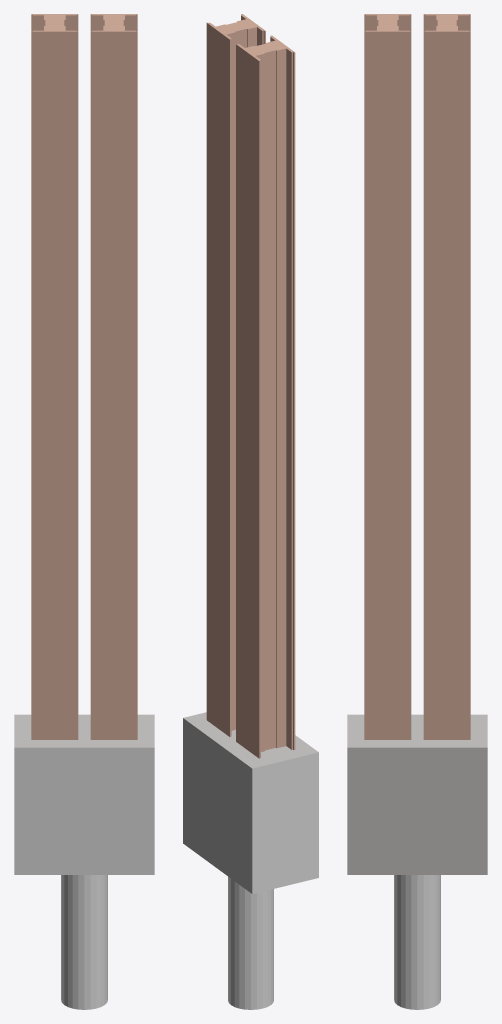
Rendered from double metalique avec massif.glb.
3 renders of one model, left to right at view 1: azimuth 90°, elevation 25°; view 2: azimuth 210°, elevation 25°; view 3: azimuth 270°, elevation 25°, orthographic.
Parts seen in each view (by area): view 1: imagetostl_mesh60, imagetostl_mesh63, imagetostl_mesh27, imagetostl_mesh32, imagetostl_mesh19, imagetostl_mesh20, imagetostl_mesh1, imagetostl_mesh2, imagetostl_mesh3, imagetostl_mesh14, imagetostl_mesh9, imagetostl_mesh13 (+4 smaller); view 2: imagetostl_mesh42, imagetostl_mesh82, imagetostl_mesh91, imagetostl_mesh26, imagetostl_mesh61, imagetostl_mesh57, imagetostl_mesh55, imagetostl_mesh80, imagetostl_mesh36, imagetostl_mesh32, imagetostl_mesh39, imagetostl_mesh62 (+20 smaller); view 3: imagetostl_mesh42, imagetostl_mesh82, imagetostl_mesh91, imagetostl_mesh32, imagetostl_mesh22, imagetostl_mesh23, imagetostl_mesh21, imagetostl_mesh25, imagetostl_mesh6, imagetostl_mesh11, imagetostl_mesh8, imagetostl_mesh15 (+4 smaller).
Boxes of the visible parts, box(x1,y1,x2,y2) form: imagetostl_mesh60: box(90, 31, 137, 739); imagetostl_mesh63: box(31, 31, 78, 739); imagetostl_mesh27: box(14, 747, 154, 874); imagetostl_mesh32: box(14, 714, 154, 747); imagetostl_mesh19: box(84, 875, 90, 1009); imagetostl_mesh20: box(78, 875, 84, 1009); imagetostl_mesh1: box(90, 875, 96, 1009); imagetostl_mesh2: box(72, 875, 78, 1009); imagetostl_mesh3: box(68, 875, 72, 1008); imagetostl_mesh14: box(96, 875, 100, 1008); imagetostl_mesh9: box(64, 875, 67, 1006); imagetostl_mesh13: box(101, 875, 104, 1006); imagetostl_mesh42: box(236, 44, 259, 758); imagetostl_mesh82: box(206, 23, 229, 736); imagetostl_mesh91: box(183, 718, 252, 893); imagetostl_mesh26: box(252, 752, 318, 893); imagetostl_mesh61: box(264, 50, 276, 750); imagetostl_mesh57: box(277, 48, 286, 748); imagetostl_mesh55: box(286, 48, 291, 749); imagetostl_mesh80: box(227, 32, 235, 730); imagetostl_mesh36: box(256, 53, 264, 751); imagetostl_mesh32: box(183, 712, 318, 768); imagetostl_mesh39: box(259, 61, 260, 758); imagetostl_mesh62: box(291, 52, 292, 749); imagetostl_mesh42: box(423, 31, 470, 739); imagetostl_mesh82: box(364, 31, 411, 739); imagetostl_mesh91: box(347, 747, 487, 874); imagetostl_mesh32: box(347, 714, 487, 747); imagetostl_mesh22: box(417, 875, 423, 1009); imagetostl_mesh23: box(411, 875, 417, 1009); imagetostl_mesh21: box(423, 875, 429, 1009); imagetostl_mesh25: box(405, 875, 411, 1009); imagetostl_mesh6: box(429, 875, 433, 1008); imagetostl_mesh11: box(401, 875, 405, 1008); imagetostl_mesh8: box(434, 875, 437, 1006); imagetostl_mesh15: box(397, 875, 400, 1006).
Bounding box in the file's own units: 0.3937 × 5.43 × 0.7087.
